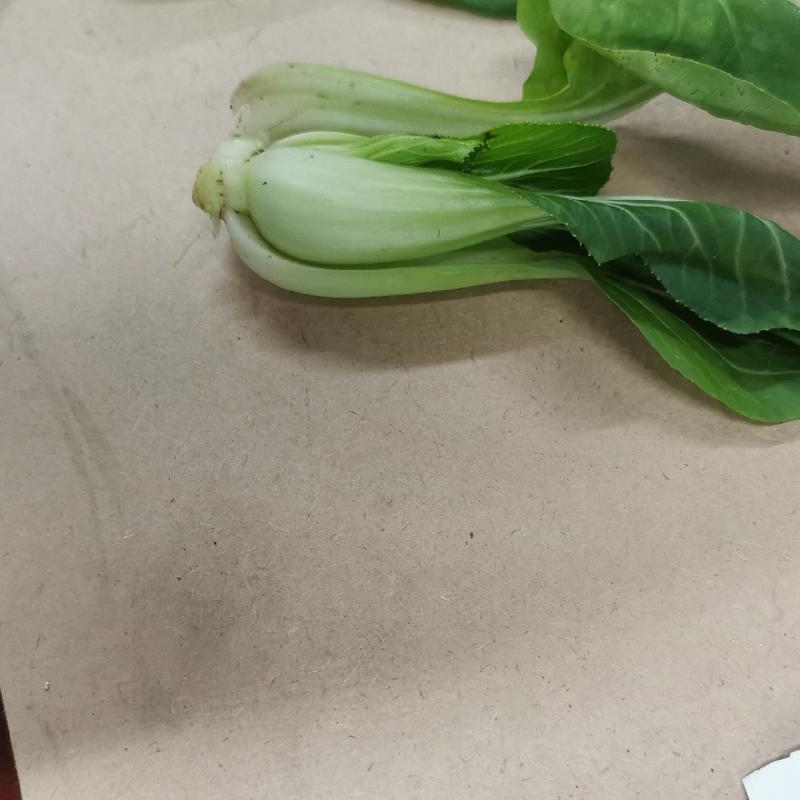green vegatable: (187, 1, 799, 440)
